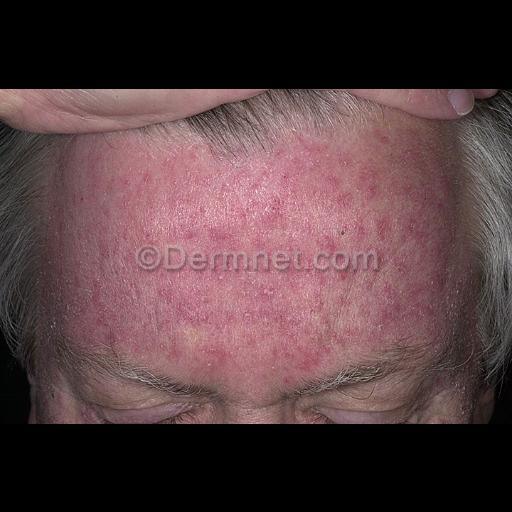Skin_Lesion: (152, 283, 226, 331), (188, 222, 246, 256), (236, 190, 296, 222), (302, 262, 330, 310), (240, 312, 290, 334), (246, 270, 276, 304), (301, 338, 331, 370), (371, 214, 395, 252), (205, 342, 239, 368), (373, 300, 401, 330), (354, 178, 386, 200), (320, 227, 346, 251), (68, 179, 92, 203), (100, 236, 118, 258), (338, 150, 356, 168), (97, 414, 119, 424), (170, 344, 182, 358)
